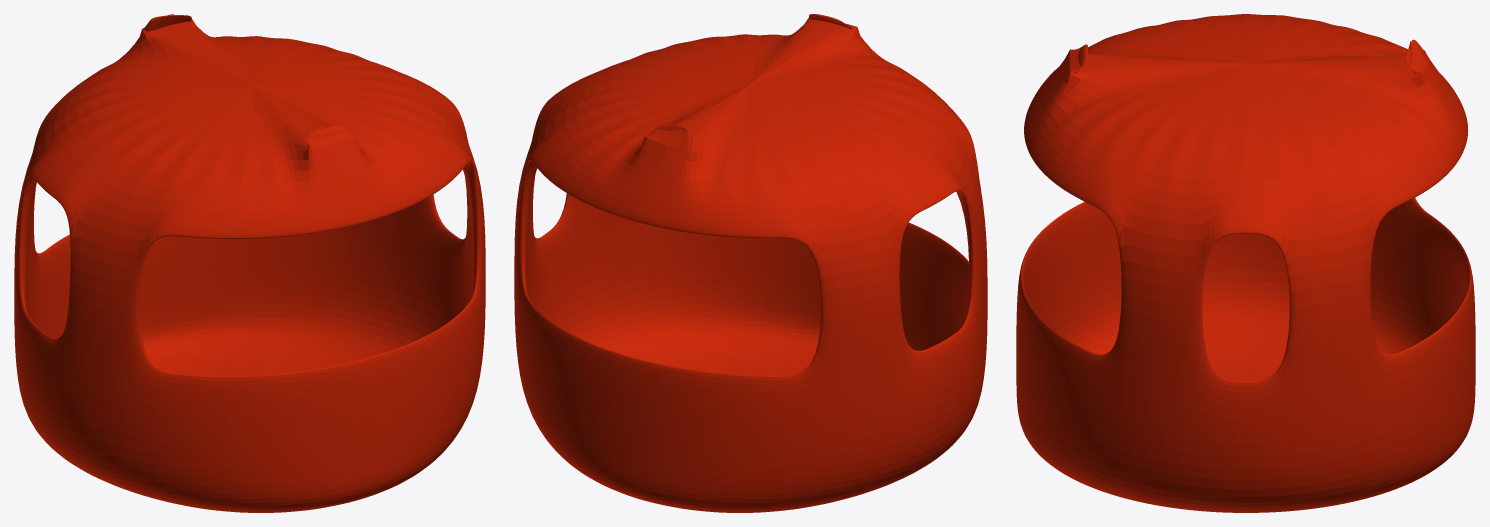
File: car.obj
The picture shows the model from 3 angles, left to right: view 1: azimuth 30°, elevation 25°; view 2: azimuth 150°, elevation 25°; view 3: azimuth 270°, elevation 25°; orthographic projection. The views are drawn at different scales.
Parts seen in each view (by area): view 1: Cylinder.003; view 2: Cylinder.003; view 3: Cylinder.003.
Part boxes in pixels (<box>): Cylinder.003: <box>14,14,485,512</box>; Cylinder.003: <box>514,14,987,512</box>; Cylinder.003: <box>1016,14,1475,512</box>.
Size of the model in its own units: 3.02 by 2.61 by 2.71.
1 material, 1 textured.
